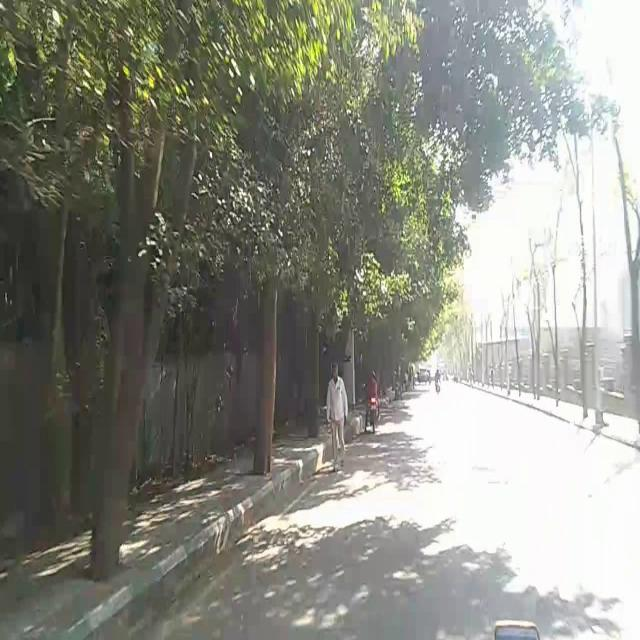motorcycle: (366, 399, 381, 439)
person: (323, 351, 349, 485), (367, 364, 380, 396)
road: (131, 578, 640, 640), (220, 515, 640, 580), (321, 438, 640, 482), (363, 387, 594, 435), (311, 484, 640, 512)
sidewalk: (0, 546, 130, 640), (129, 490, 220, 581), (219, 454, 309, 516), (518, 384, 602, 416), (604, 408, 640, 449)
